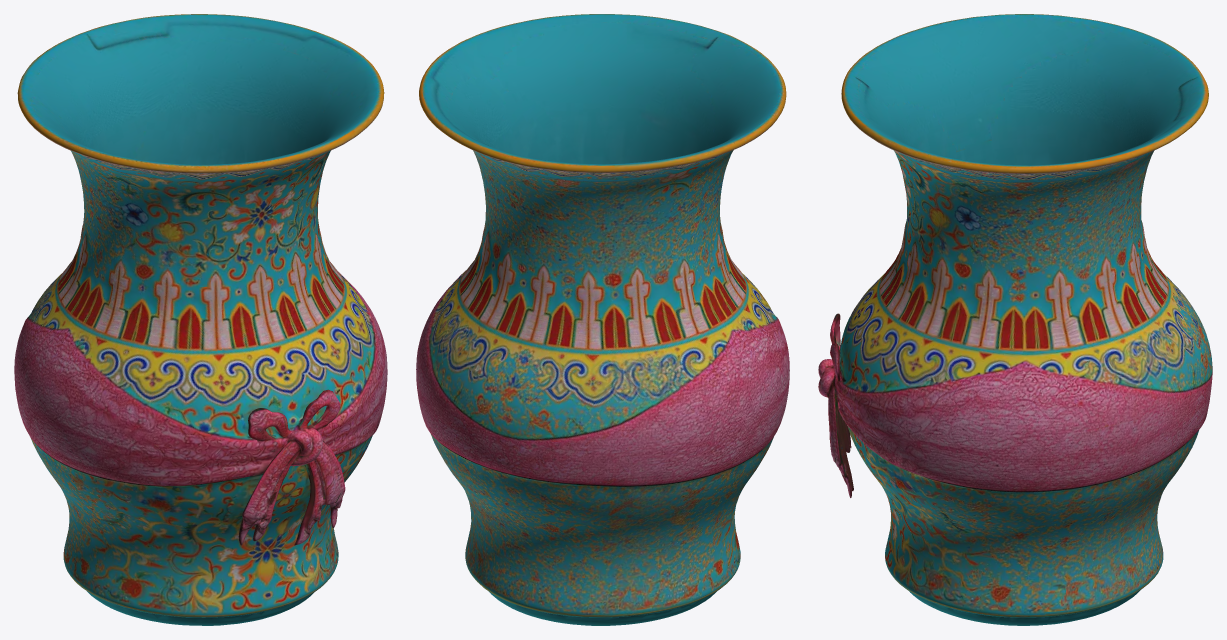
Rendered from 蓝地粉彩花卉纹包袱尊.glb.
The picture shows the model from 3 angles, left to right: view 1: azimuth 30°, elevation 25°; view 2: azimuth 150°, elevation 25°; view 3: azimuth 270°, elevation 25°; orthographic projection.
Visible parts, largest first — view 1: tripo_node_5bf1c4c0; view 2: tripo_node_5bf1c4c0; view 3: tripo_node_5bf1c4c0.
Part boxes in pixels (x1=…): tripo_node_5bf1c4c0: x1=14, y1=14, x2=387, y2=625; tripo_node_5bf1c4c0: x1=416, y1=14, x2=789, y2=625; tripo_node_5bf1c4c0: x1=818, y1=14, x2=1212, y2=625.
Size of the model in its own units: 67.98 by 97.9 by 71.77.
Materials: 1 (1 with a texture image).
